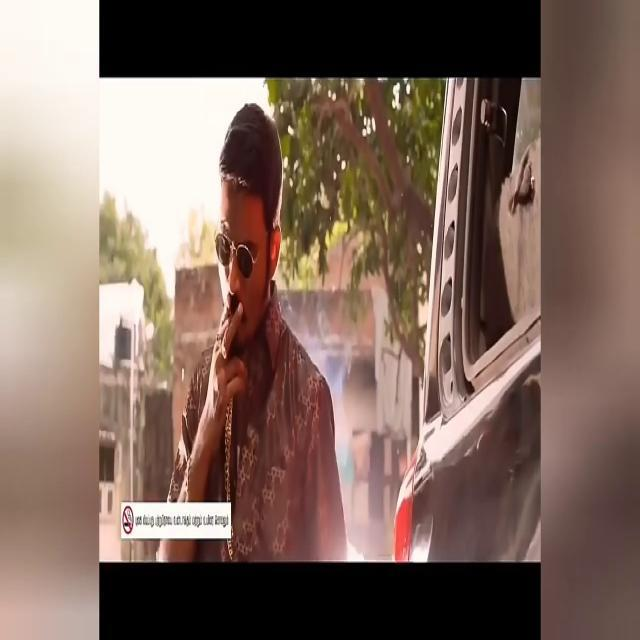smoking: (228, 195, 261, 388)
